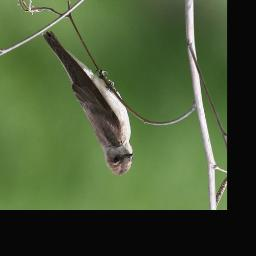Swallow: (40, 29, 134, 177)
